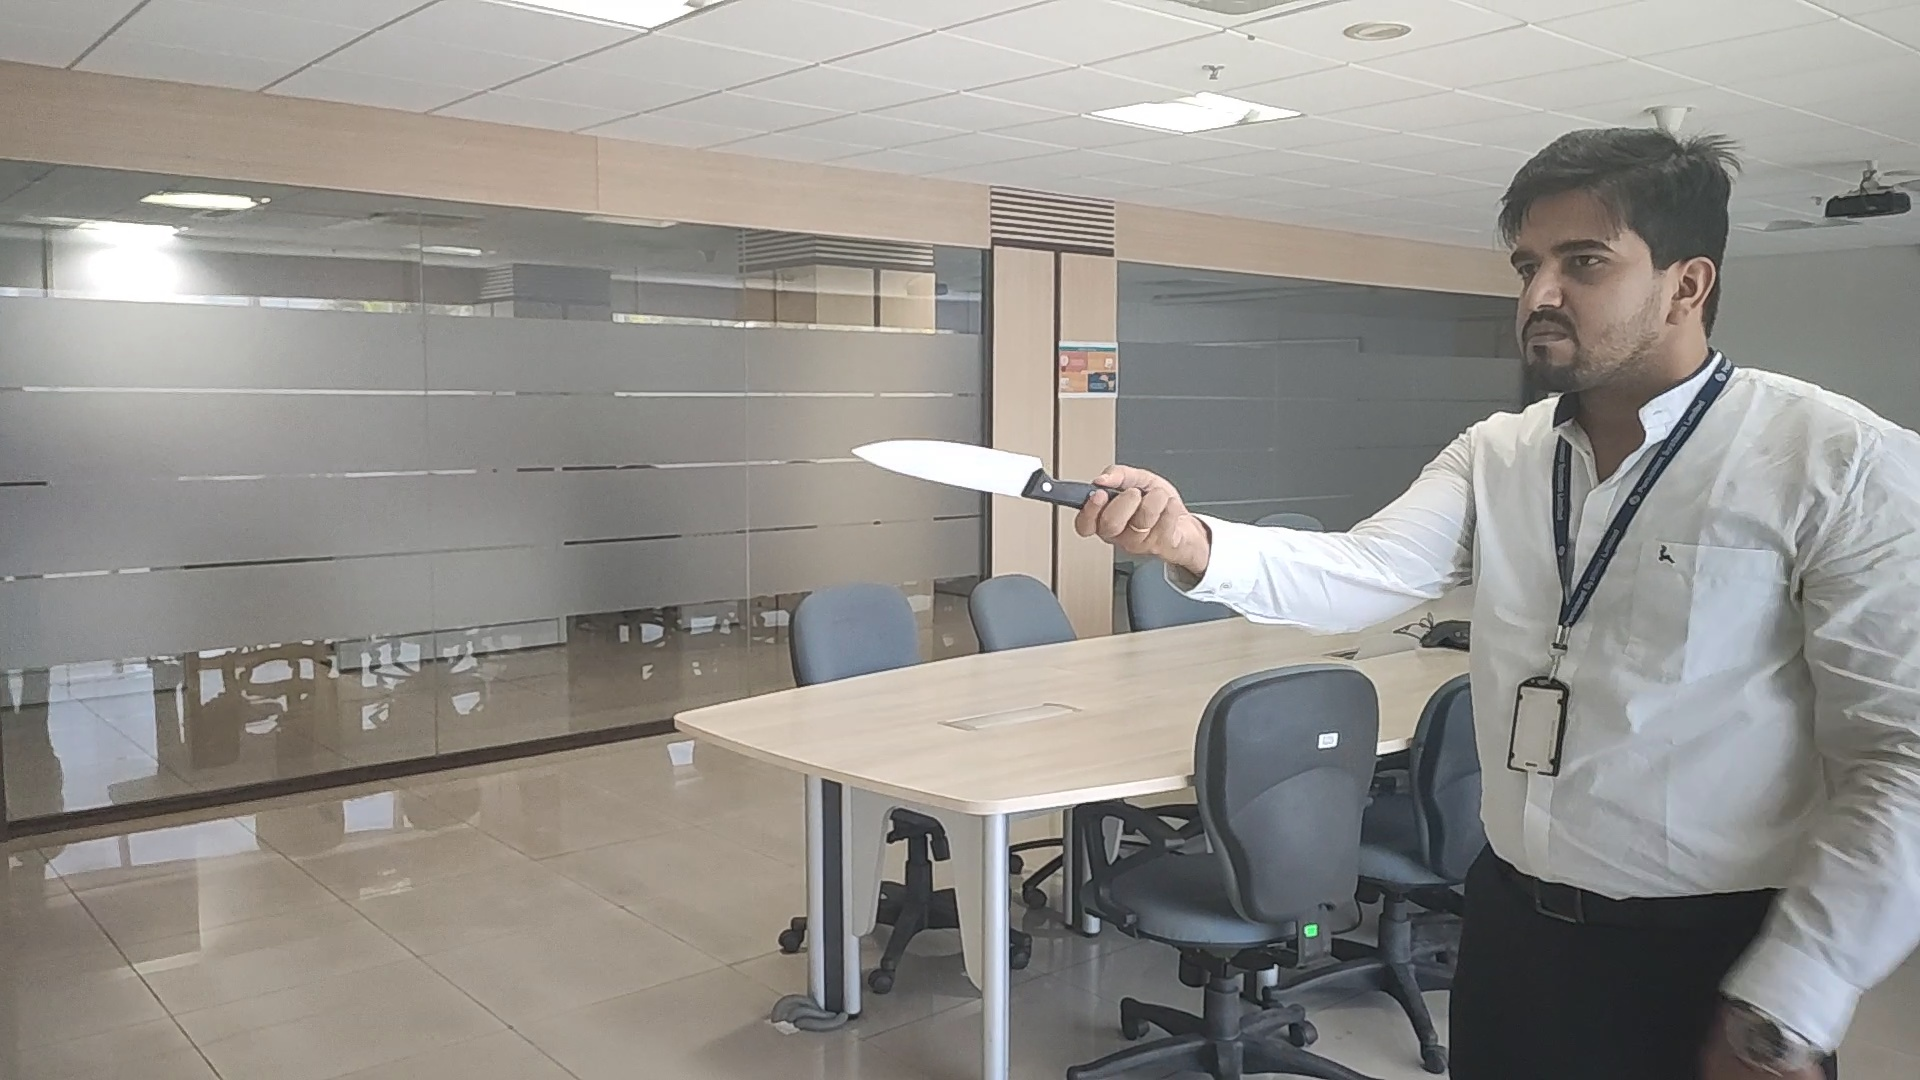knife: (855, 433, 1091, 505)
